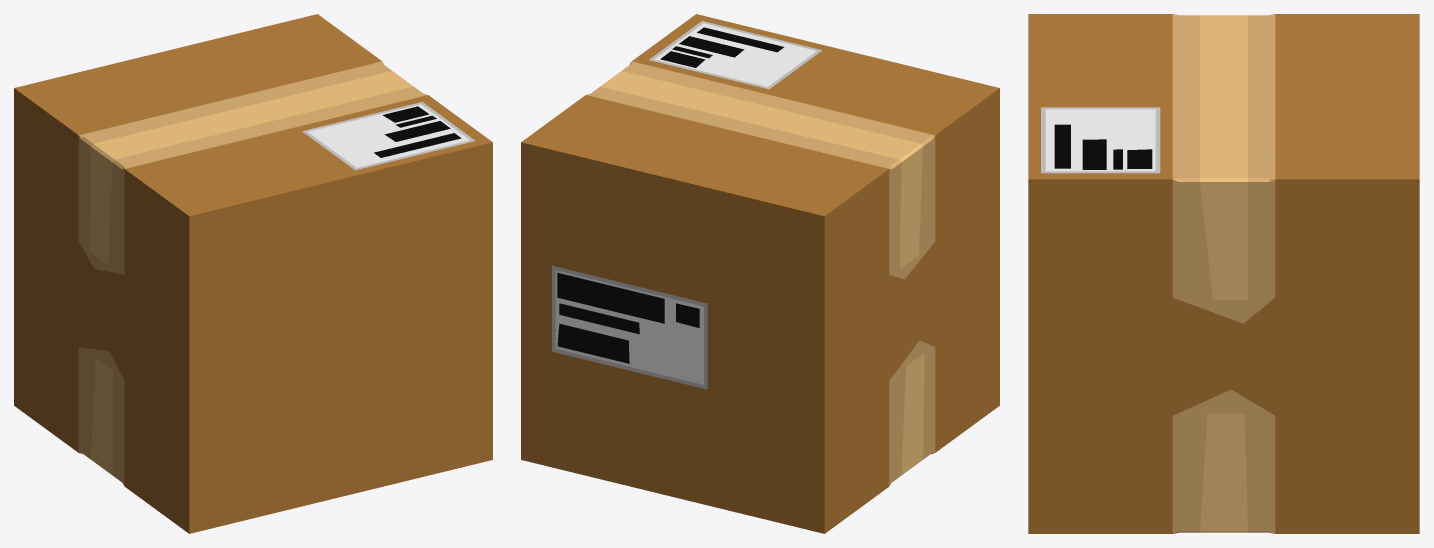
File: Dark Packing Box #4.fbx
3 renders of one model, left to right at view 1: azimuth 30°, elevation 25°; view 2: azimuth 150°, elevation 25°; view 3: azimuth 270°, elevation 25°, orthographic. The views are drawn at different scales.
Visible parts, largest first — view 1: Med Dark Packing Box #2; view 2: Med Dark Packing Box #2; view 3: Med Dark Packing Box #2.
Boxes of the visible parts, x1,y1,x2,y2 form: Med Dark Packing Box #2: (14,14,492,533); Med Dark Packing Box #2: (521,14,999,533); Med Dark Packing Box #2: (1028,14,1419,533).
Bounding box in the file's own units: 236 × 236 × 236.
1 material, 1 textured.
